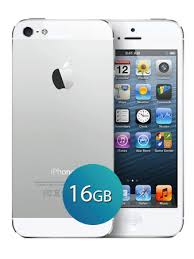iphone5: (5, 9, 187, 239), (7, 13, 117, 241)
